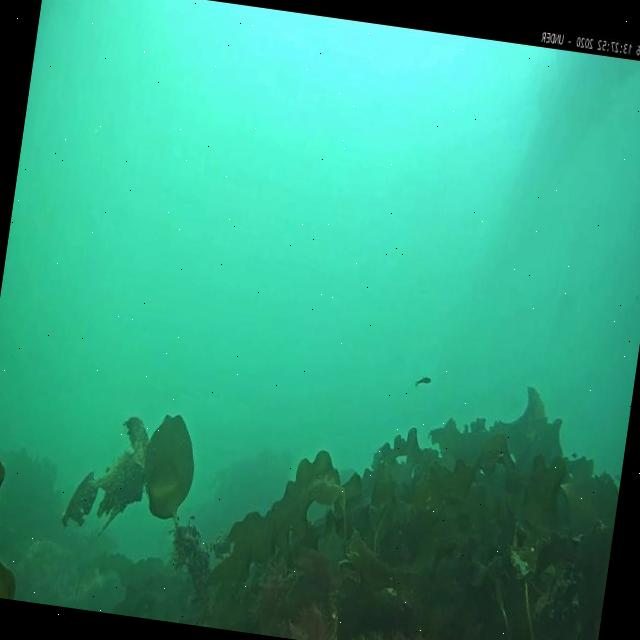fish: (413, 372, 433, 389)
